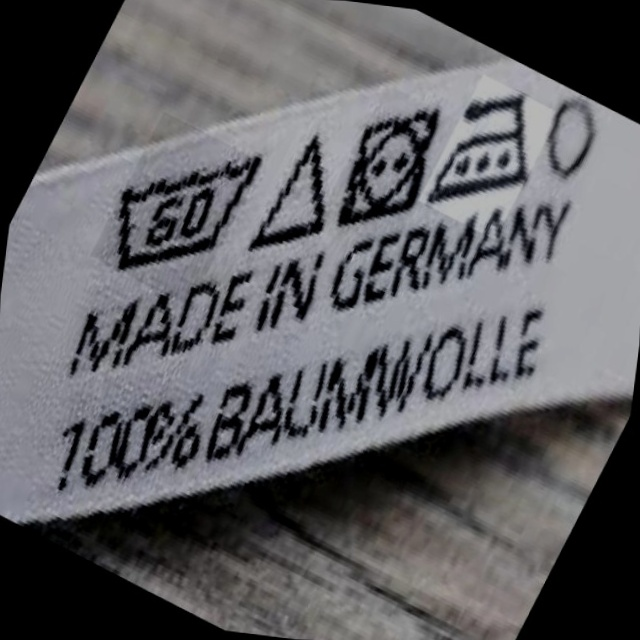60C: (96, 131, 266, 281)
bleach: (254, 124, 341, 260)
iron_high: (430, 78, 544, 216)
tumble_dry_medium: (338, 93, 441, 233)
